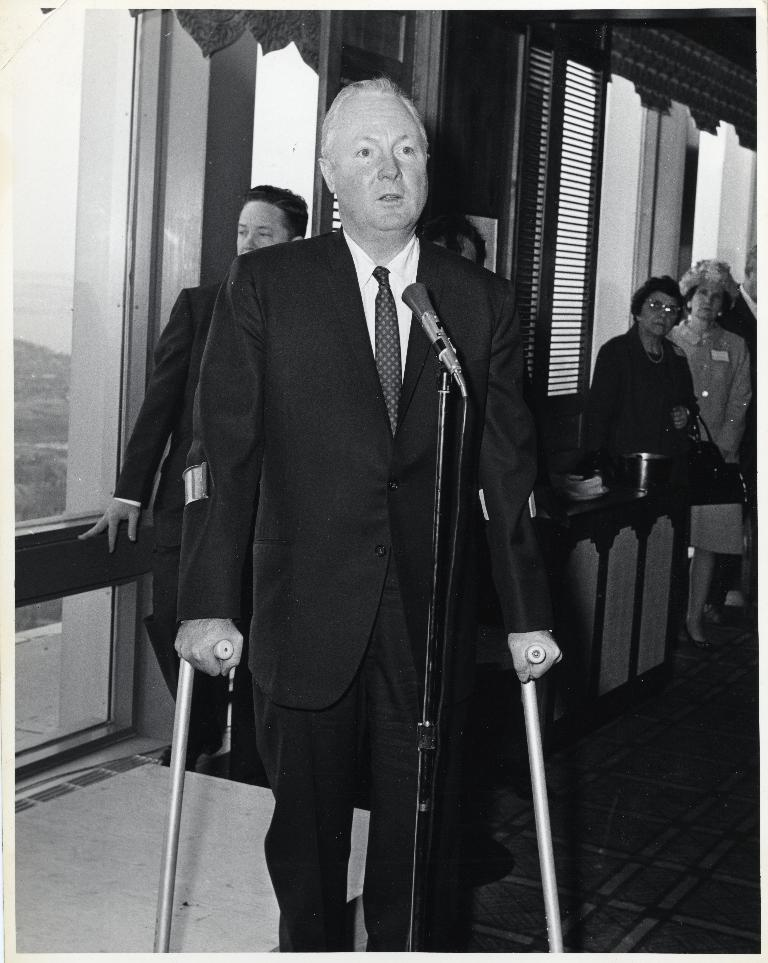crutches: (144, 64, 580, 963)
